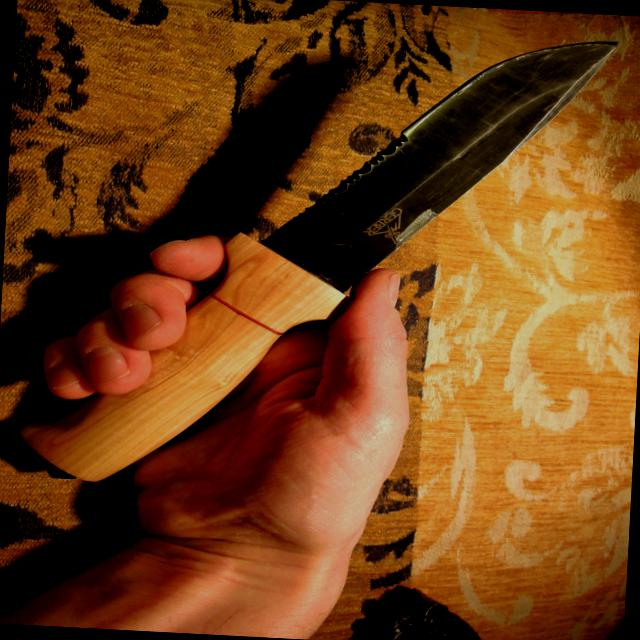knife: (2, 4, 632, 517)
